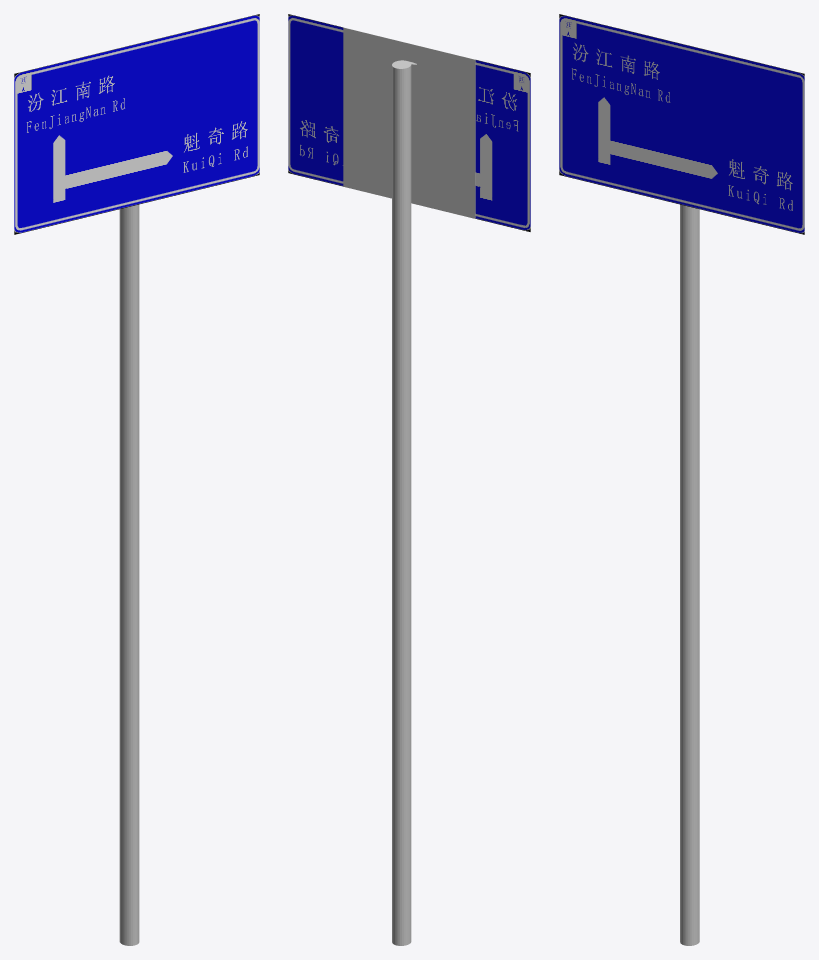
Rendered from R5d-foshan-dongpingroad-ew-1.glb.
3 renders of one model, left to right at view 1: azimuth 30°, elevation 25°; view 2: azimuth 150°, elevation 25°; view 3: azimuth 330°, elevation 25°, orthographic.
Visible parts, largest first — view 1: SM_zhishipai_05; view 2: SM_zhishipai_05; view 3: SM_zhishipai_05.
Boxes of the visible parts, bbox=[...] form: SM_zhishipai_05: bbox=[14, 14, 259, 945]; SM_zhishipai_05: bbox=[288, 14, 530, 945]; SM_zhishipai_05: bbox=[559, 14, 804, 945].
Bounding box in the file's own units: 4.69 × 16.52 × 0.4286.
2 materials, 1 textured.
